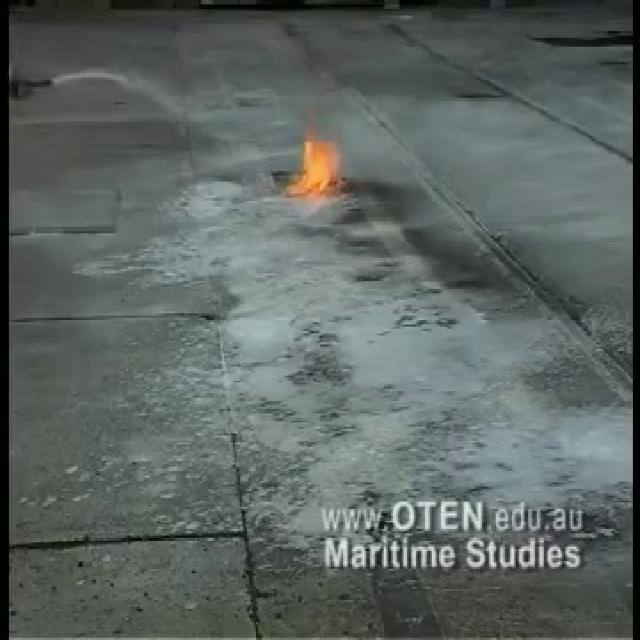Fire: (286, 106, 348, 206)
